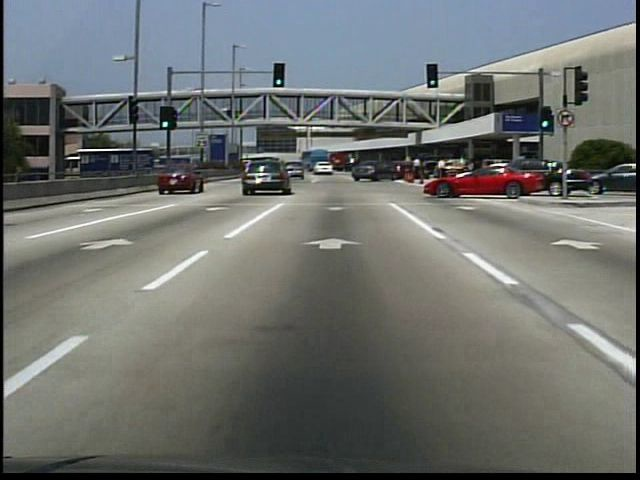person: (410, 159, 425, 186), (435, 158, 447, 180), (227, 108, 233, 122)
